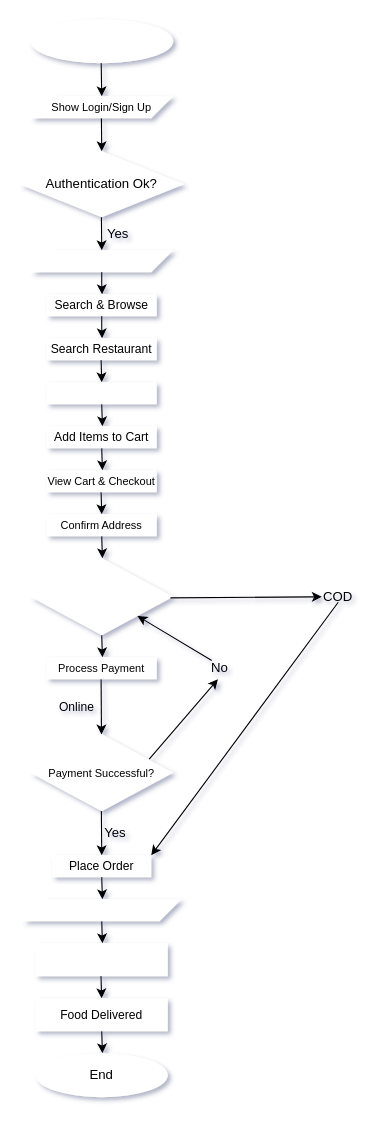
This 380x1122 diagram has some shape labels left out. Each missing label, with the box of its shape:
Display Home Screen: (30, 250, 173, 272)
Live Order Tracking: (35, 943, 167, 976)
Order Confirmation: (21, 899, 181, 921)
Select Payment Method: (30, 558, 173, 635)
Start: (30, 19, 173, 63)
View Menu: (46, 382, 156, 404)
